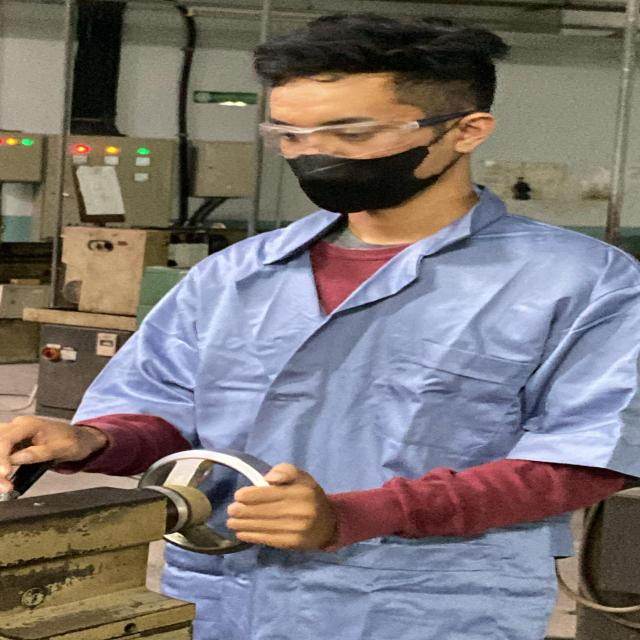face_mask: (257, 114, 438, 214)
glasses: (245, 108, 475, 158)
hand_noglove: (213, 458, 346, 556), (0, 414, 102, 482)
head_nohelmet: (228, 18, 504, 94)
